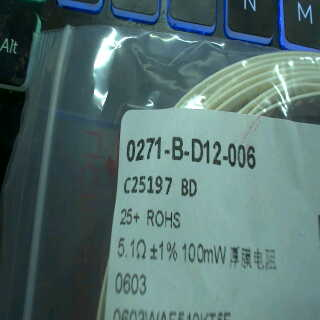5.1R: (114, 233, 148, 264)
